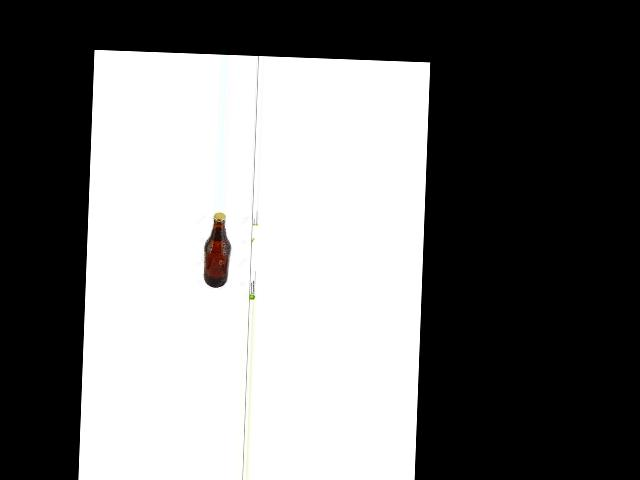beer: (203, 212, 232, 287)
